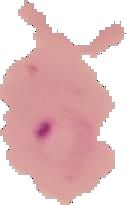parasitized: (27, 104, 100, 164)
